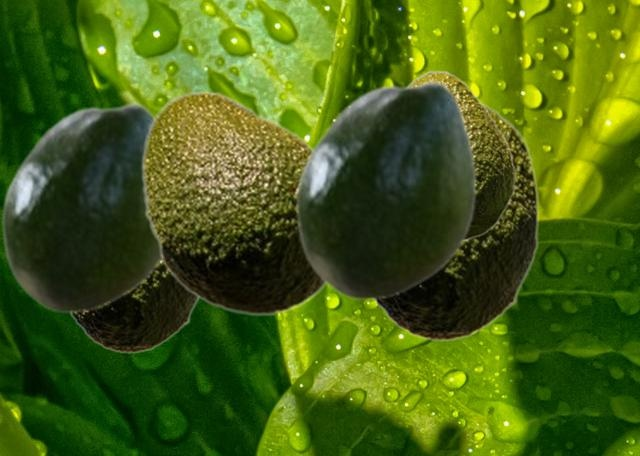avocado: (140, 90, 327, 316), (294, 79, 476, 300), (371, 102, 537, 341), (0, 101, 161, 313), (406, 70, 515, 241), (67, 263, 199, 353)
